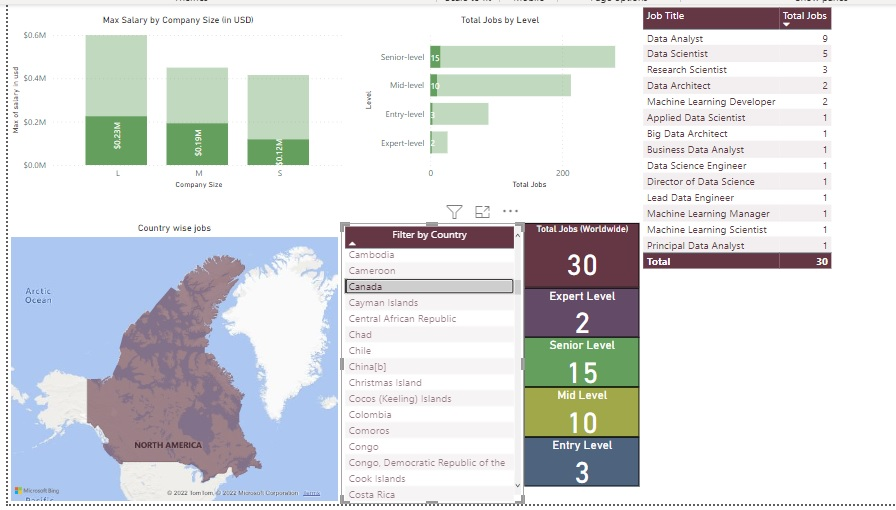

Layout of this report page (visuals, bound fields, positions):
{"tool":"powerbi","page":{"name":"Page 1","canvas":[1280,720],"ordinal":0},"visuals":[{"type":"tableEx","fields":{"Values":["ds_salaries.job_title","CountNonNull(ds_salaries.ID)"]},"box":[908.6,0,371.5,720],"z":0},{"type":"columnChart","title":"Max Salary by Company Size (in USD)","fields":{"Y":["Max(ds_salaries.salary_in_usd)"],"Category":["ds_salaries.company_size"]},"box":[0,15.8,489.6,254.9],"z":1000},{"type":"barChart","fields":{"Category":["ds_salaries.Exp_Level"],"Y":["CountNonNull(ds_salaries.job_title)"]},"box":[508.3,15.8,400.3,254.9],"z":2000},{"type":"filledMap","fields":{"Category":["Coutry_codes_web_data.English short name (using title case)"]},"box":[0,315.4,479.5,404.6],"z":3000},{"type":"tableEx","fields":{"Values":["Coutry_codes_web_data.English short name (using title case)"]},"box":[479.5,315.4,263.5,404.6],"z":4000},{"type":"card","title":"Total Jobs (Worldwide)","fields":{"Values":["CountNonNull(ds_salaries.job_title)"]},"box":[742.9,315.7,165.7,92.9],"z":5000},{"type":"card","title":"Senior Level","fields":{"Values":["ds_salaries.TotalExplevelsenior"]},"box":[743,479.5,165.6,72],"z":6000},{"type":"card","title":"Mid Level","fields":{"Values":["ds_salaries.TotalExplevelMID"]},"box":[743,551.5,165.6,72],"z":7000},{"type":"card","title":"Entry Level","fields":{"Values":["ds_salaries.TotalExplevelsentry"]},"box":[743,623.5,165.6,70.6],"z":8000},{"type":"card","title":"Expert Level","fields":{"Values":["ds_salaries.TotalExplevelexpert"]},"box":[742.9,408.6,165.7,71.4],"z":9000}]}

Visuals, with their boxes on the page's 1280x720 design canvas (x1, y1, x2, y2). These are canvas units, not pixel positions in the 896x510 screenshot, which may show the page scaled, cropped or inside an application window:
tableEx - ds_salaries.job_title x CountNonNull(ds_salaries.ID): x1=909 y1=0 x2=1280 y2=720
"Max Salary by Company Size (in USD)" columnChart: x1=0 y1=16 x2=490 y2=271
barChart - ds_salaries.Exp_Level x CountNonNull(ds_salaries.job_title): x1=508 y1=16 x2=909 y2=271
filledMap - Coutry_codes_web_data.English short name (using title case): x1=0 y1=315 x2=480 y2=720
tableEx - Coutry_codes_web_data.English short name (using title case): x1=480 y1=315 x2=743 y2=720
"Total Jobs (Worldwide)" card: x1=743 y1=316 x2=909 y2=409
"Senior Level" card: x1=743 y1=480 x2=909 y2=552
"Mid Level" card: x1=743 y1=552 x2=909 y2=624
"Entry Level" card: x1=743 y1=624 x2=909 y2=694
"Expert Level" card: x1=743 y1=409 x2=909 y2=480
